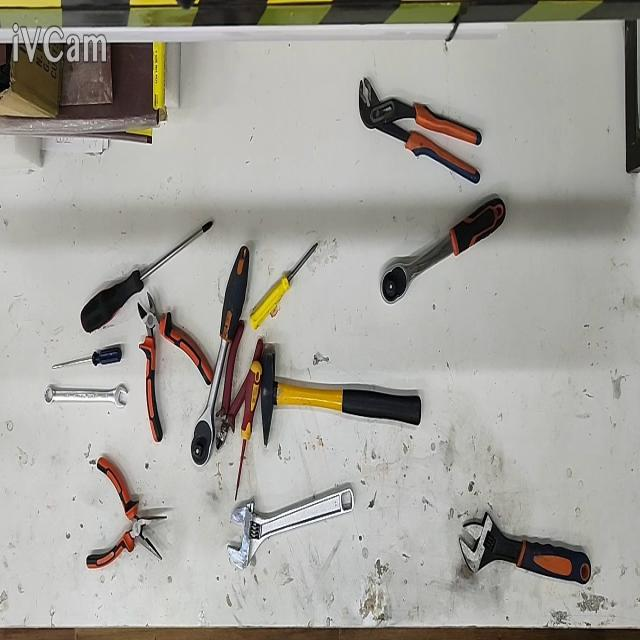Screwdriver: (80, 221, 212, 334), (250, 241, 318, 329), (234, 361, 262, 502), (52, 348, 121, 369)
